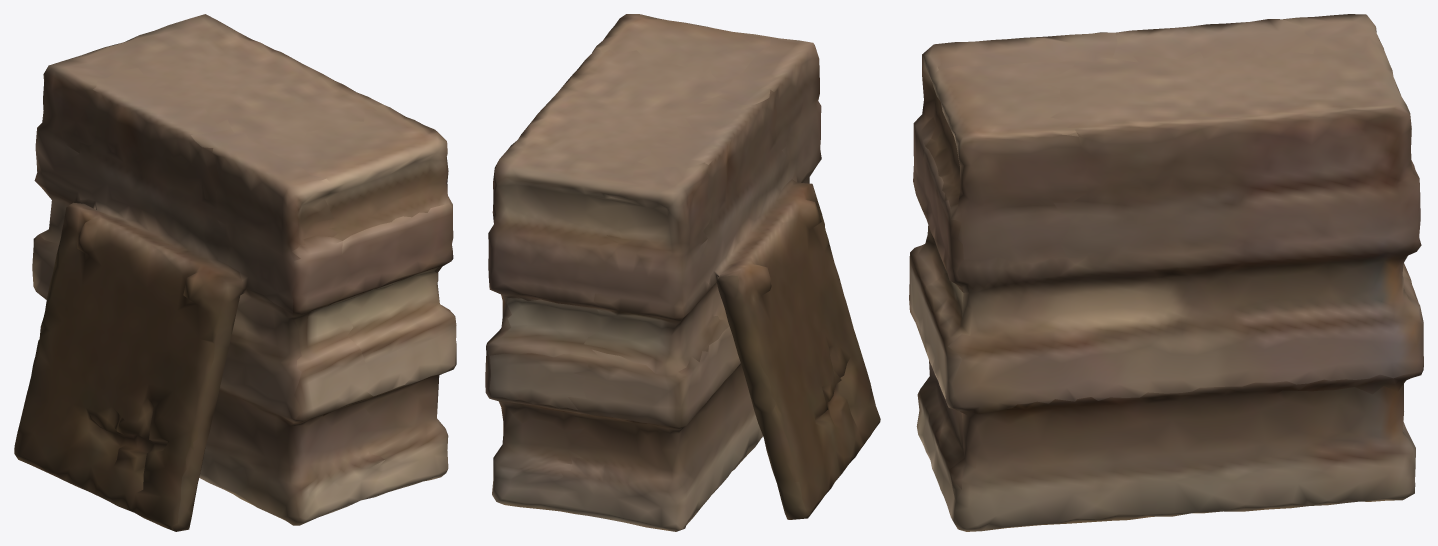
File: halloween-books.glb
3 renders of one model, left to right at view 1: azimuth 30°, elevation 25°; view 2: azimuth 150°, elevation 25°; view 3: azimuth 270°, elevation 25°, orthographic. The views are drawn at different scales.
Parts seen in each view (by area): view 1: geometry_0; view 2: geometry_0; view 3: geometry_0.
Boxes of the visible parts, bbox=[...] form: geometry_0: bbox=[14, 14, 456, 531]; geometry_0: bbox=[485, 14, 880, 531]; geometry_0: bbox=[909, 14, 1423, 531].
Size of the model in its own units: 0.65 by 0.6884 by 0.7979.
1 material, 1 textured.
